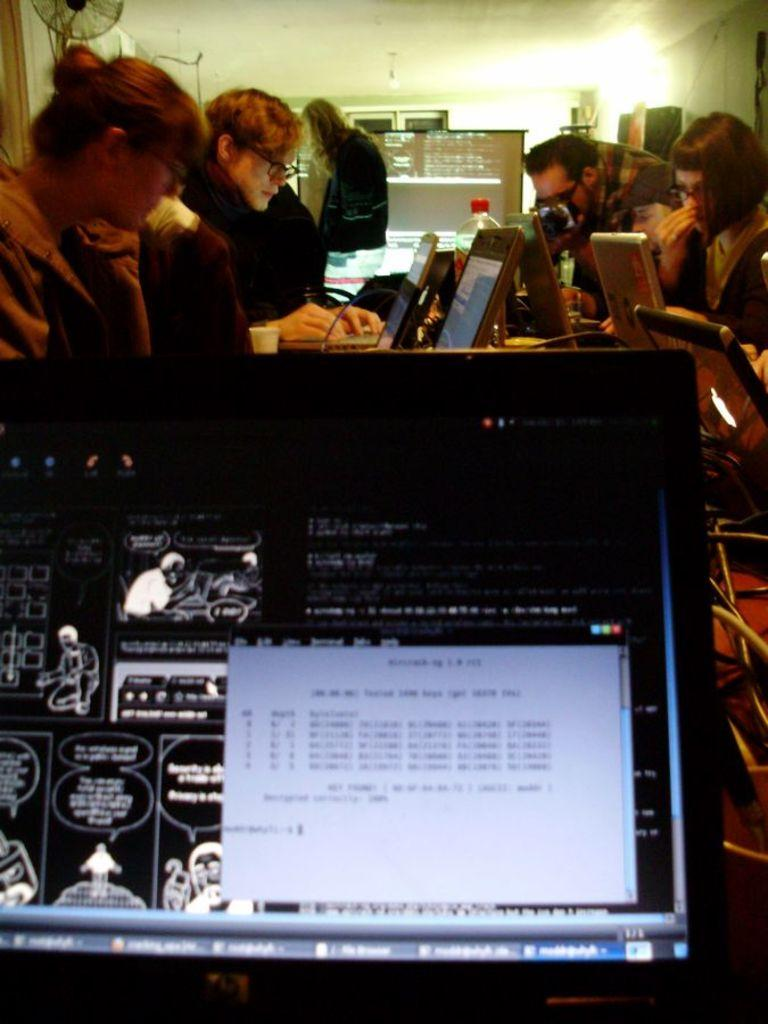Computer-monitor: (0, 355, 733, 1023)
Laptop: (0, 345, 741, 1023), (280, 229, 440, 349), (497, 210, 614, 341), (585, 232, 683, 345), (431, 229, 520, 348)
